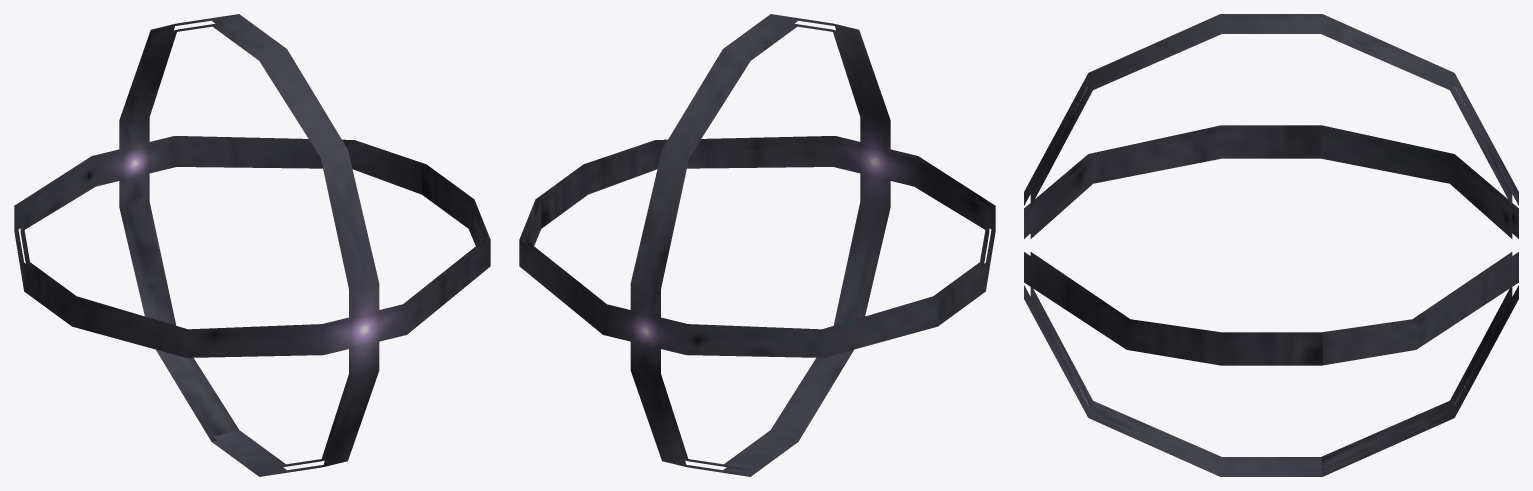
Rendered from tesla_block_coil.obj.
3 renders of one model, left to right at view 1: azimuth 30°, elevation 25°; view 2: azimuth 150°, elevation 25°; view 3: azimuth 270°, elevation 25°, orthographic. The views are drawn at different scales.
Parts seen in each view (by area): view 1: teslaBlock_coil; view 2: teslaBlock_coil; view 3: teslaBlock_coil.
Boxes of the visible parts, left/top/right/bottom form: teslaBlock_coil: left=14, top=14, right=490, bottom=476; teslaBlock_coil: left=519, top=14, right=995, bottom=476; teslaBlock_coil: left=1024, top=14, right=1518, bottom=476.
Bounding box in the file's own units: 0.7656 × 0.7656 × 0.7656.
